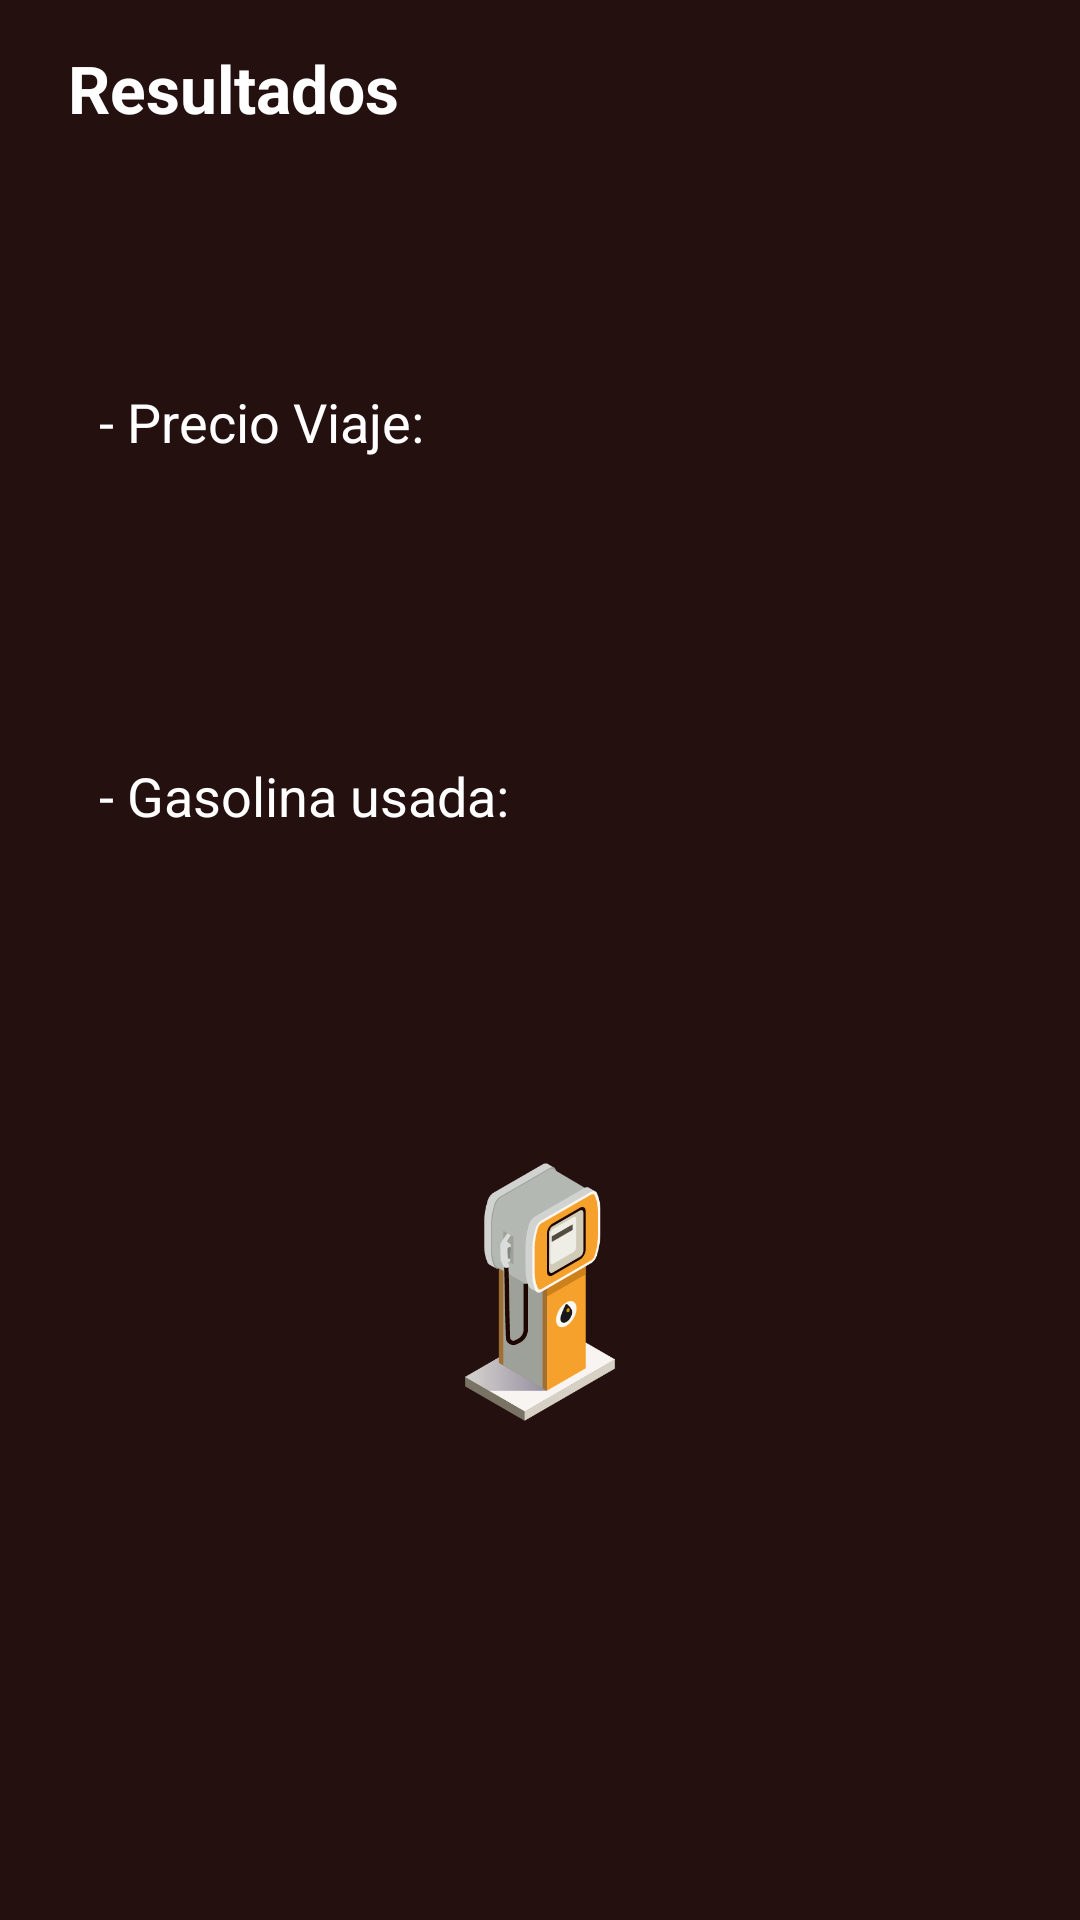

Named icons in this screenshot (1080x1920) and their bounding boxes, (x1, y1, x2, y2):
petrolpump: (465, 1163, 615, 1421)
